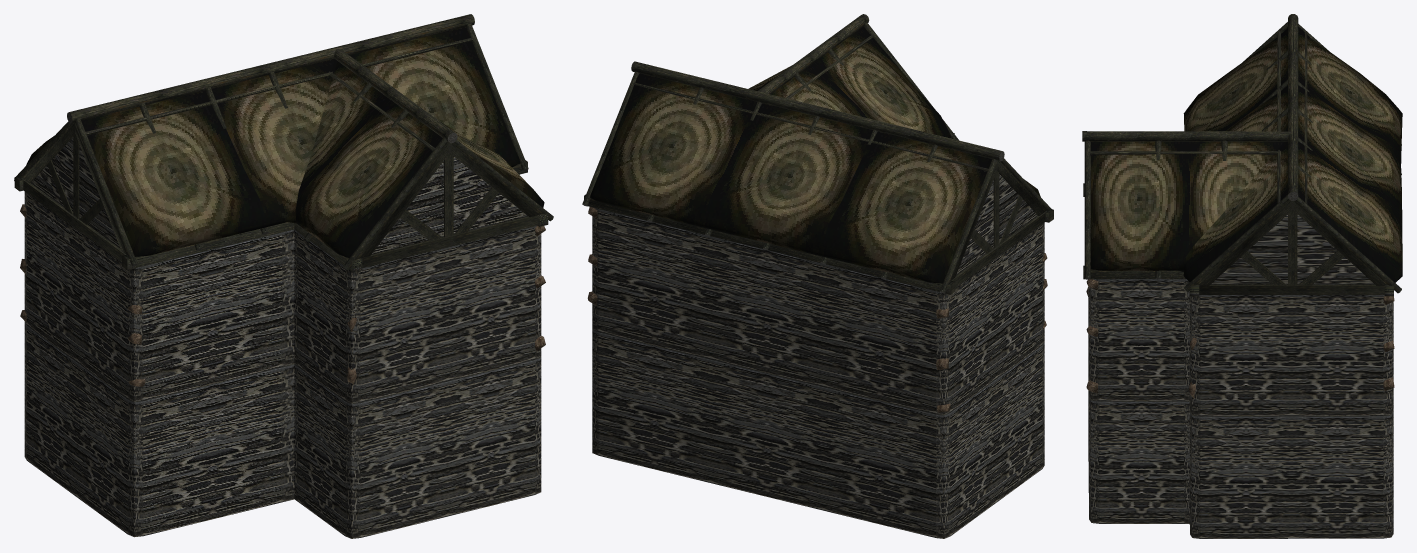
Rendered from ex_nord_house_02.obj.
3 views of the same model, side by side, from view 1: azimuth 30°, elevation 25°; view 2: azimuth 150°, elevation 25°; view 3: azimuth 270°, elevation 25° (orthographic). The views are drawn at different scales.
Parts seen in each view (by area): view 1: nifid_21-matrix_Tri_Ex_nord_house_02_4-lib, nifid_31-matrix_Tri_Ex_nord_house_02_6-lib, nifid_1-matrix_Tri_Ex_nord_house_02_0-lib, nifid_11-matrix_Tri_Ex_nord_house_02_2-lib, nifid_6-matrix_Tri_Ex_nord_house_02_1-lib, nifid_36-matrix_Tri_Ex_nord_house_02_7-lib; view 2: nifid_21-matrix_Tri_Ex_nord_house_02_4-lib, nifid_31-matrix_Tri_Ex_nord_house_02_6-lib, nifid_1-matrix_Tri_Ex_nord_house_02_0-lib, nifid_6-matrix_Tri_Ex_nord_house_02_1-lib, nifid_11-matrix_Tri_Ex_nord_house_02_2-lib, nifid_36-matrix_Tri_Ex_nord_house_02_7-lib; view 3: nifid_21-matrix_Tri_Ex_nord_house_02_4-lib, nifid_31-matrix_Tri_Ex_nord_house_02_6-lib, nifid_1-matrix_Tri_Ex_nord_house_02_0-lib, nifid_11-matrix_Tri_Ex_nord_house_02_2-lib, nifid_6-matrix_Tri_Ex_nord_house_02_1-lib, nifid_36-matrix_Tri_Ex_nord_house_02_7-lib.
Part boxes in pixels (bbox=[...]): nifid_21-matrix_Tri_Ex_nord_house_02_4-lib: bbox=[27, 137, 534, 537]; nifid_31-matrix_Tri_Ex_nord_house_02_6-lib: bbox=[26, 27, 544, 257]; nifid_1-matrix_Tri_Ex_nord_house_02_0-lib: bbox=[14, 14, 553, 272]; nifid_11-matrix_Tri_Ex_nord_house_02_2-lib: bbox=[24, 191, 541, 538]; nifid_6-matrix_Tri_Ex_nord_house_02_1-lib: bbox=[127, 229, 351, 538]; nifid_36-matrix_Tri_Ex_nord_house_02_7-lib: bbox=[20, 204, 545, 386]; nifid_21-matrix_Tri_Ex_nord_house_02_4-lib: bbox=[598, 174, 1042, 537]; nifid_31-matrix_Tri_Ex_nord_house_02_6-lib: bbox=[590, 26, 1040, 283]; nifid_1-matrix_Tri_Ex_nord_house_02_0-lib: bbox=[582, 14, 1053, 294]; nifid_6-matrix_Tri_Ex_nord_house_02_1-lib: bbox=[592, 208, 1044, 538]; nifid_11-matrix_Tri_Ex_nord_house_02_2-lib: bbox=[944, 293, 950, 538]; nifid_36-matrix_Tri_Ex_nord_house_02_7-lib: bbox=[587, 207, 1047, 412]; nifid_21-matrix_Tri_Ex_nord_house_02_4-lib: bbox=[1088, 214, 1382, 538]; nifid_31-matrix_Tri_Ex_nord_house_02_6-lib: bbox=[1090, 26, 1402, 282]; nifid_1-matrix_Tri_Ex_nord_house_02_0-lib: bbox=[1082, 14, 1401, 296]; nifid_11-matrix_Tri_Ex_nord_house_02_2-lib: bbox=[1089, 279, 1391, 538]; nifid_6-matrix_Tri_Ex_nord_house_02_1-lib: bbox=[1091, 279, 1393, 537]; nifid_36-matrix_Tri_Ex_nord_house_02_7-lib: bbox=[1086, 279, 1394, 398].
Size of the model in its own units: 20.18 by 18.49 by 15.37.
